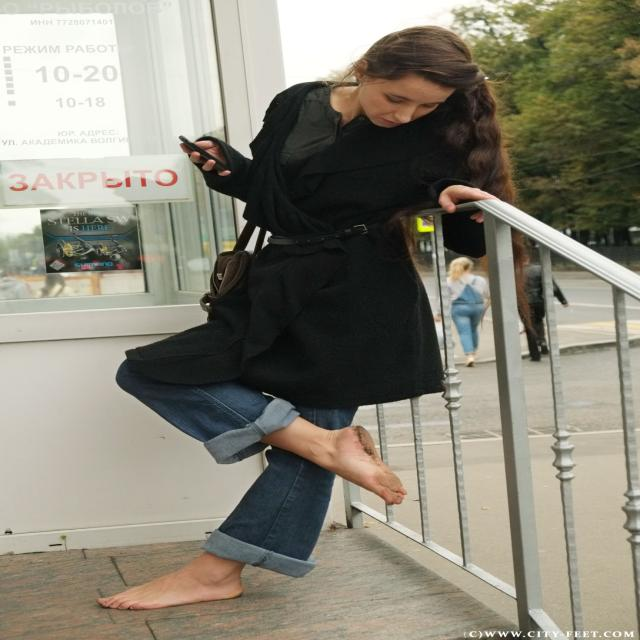Barefoots: (330, 426, 407, 506), (97, 573, 243, 610)
